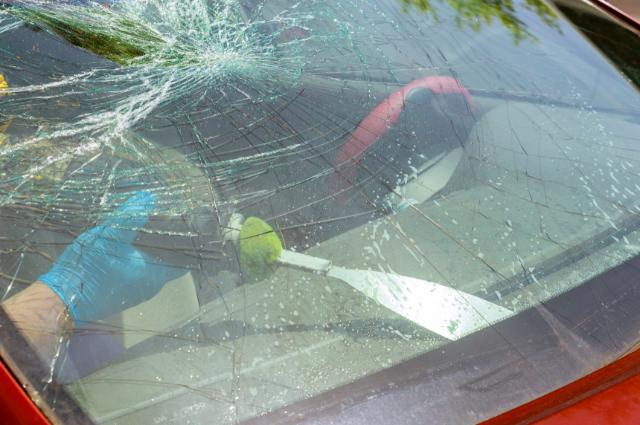Windshield: (2, 0, 640, 417)
